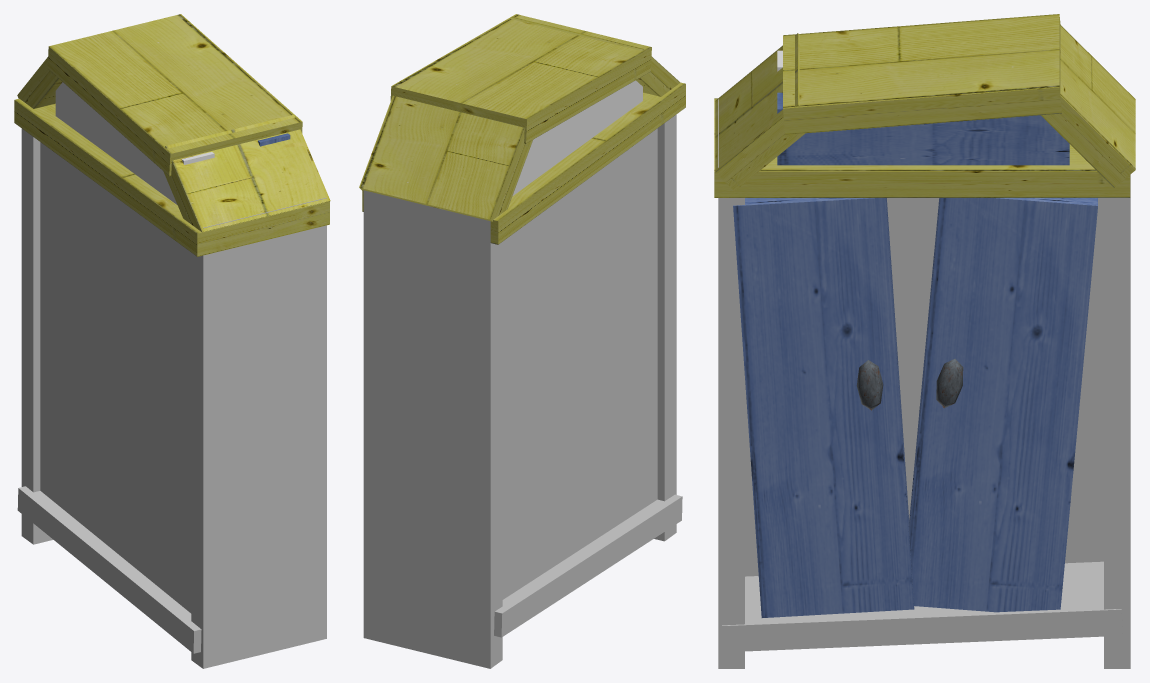
Rendered from Closet2.fbx.
The picture shows the model from 3 angles, left to right: view 1: azimuth 30°, elevation 25°; view 2: azimuth 150°, elevation 25°; view 3: azimuth 270°, elevation 25°; orthographic projection. The views are drawn at different scales.
Parts seen in each view (by area): view 1: Cube.014, Cube.007, Cube.004, Cube.002, Cube.005, Cube.001, Cube.006, Cube.008, Cube.003; view 2: Cube.001, Cube.007, Cube.004, Cube.003, Cube.014, Cube.005, Cube.006, Cube.008, Cube.002; view 3: Cube.011, Cube.010, Cube.004, Cube.007, Cube.006, Cube.005, Cube.001, Cube.009, Cube.014, Cube.003, Cube.002, Cube.013 (+1 smaller).
Part boxes in pixels (<box>): Cube.014: <box>191,197,326,668</box>; Cube.007: <box>40,142,191,613</box>; Cube.004: <box>47,14,302,176</box>; Cube.002: <box>163,114,330,232</box>; Cube.005: <box>14,98,329,256</box>; Cube.001: <box>21,128,53,544</box>; Cube.006: <box>17,486,201,653</box>; Cube.008: <box>55,82,214,204</box>; Cube.003: <box>17,57,62,108</box>; Cube.001: <box>363,190,502,668</box>; Cube.007: <box>502,128,657,599</box>; Cube.004: <box>390,14,651,143</box>; Cube.003: <box>359,95,532,221</box>; Cube.014: <box>654,114,676,541</box>; Cube.005: <box>362,82,685,244</box>; Cube.006: <box>494,494,682,637</box>; Cube.008: <box>512,80,642,195</box>; Cube.002: <box>510,16,680,96</box>; Cube.011: <box>909,198,1097,612</box>; Cube.010: <box>733,198,914,617</box>; Cube.004: <box>783,14,1061,134</box>; Cube.007: <box>745,198,1103,576</box>; Cube.006: <box>722,561,1122,652</box>; Cube.005: <box>714,98,1130,197</box>; Cube.001: <box>1104,174,1130,668</box>; Cube.009: <box>777,92,1069,165</box>; Cube.014: <box>718,99,744,668</box>; Cube.003: <box>1041,25,1135,187</box>; Cube.002: <box>715,33,804,191</box>; Cube.013: <box>936,358,963,408</box>.
Size of the model in its own units: 229 by 794 by 519.
